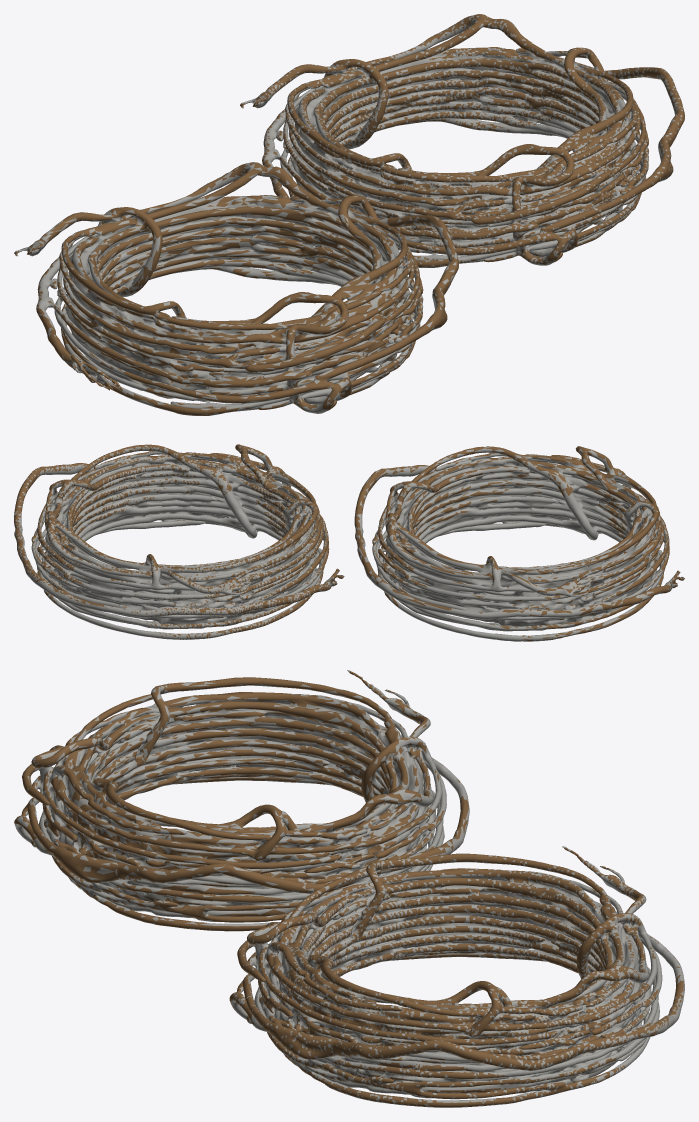
The model's file is alambre_coloreado.fbx.
The picture shows the model from 3 angles, top to bottom: view 1: azimuth 30°, elevation 25°; view 2: azimuth 150°, elevation 25°; view 3: azimuth 270°, elevation 25°; orthographic projection. The views are drawn at different scales.
Visible parts, largest first — view 1: tmpackq0_o7.ply.001, tmpackq0_o7.ply; view 2: tmpackq0_o7.ply.001, tmpackq0_o7.ply; view 3: tmpackq0_o7.ply, tmpackq0_o7.ply.001.
Boxes of the visible parts, x1,y1,x2,y2 form: tmpackq0_o7.ply.001: [14, 162, 458, 415]; tmpackq0_o7.ply: [240, 14, 684, 267]; tmpackq0_o7.ply.001: [354, 446, 684, 641]; tmpackq0_o7.ply: [14, 444, 344, 639]; tmpackq0_o7.ply: [229, 846, 684, 1107]; tmpackq0_o7.ply.001: [14, 670, 469, 931].
Size of the model in its own units: 373 by 56.58 by 286.
